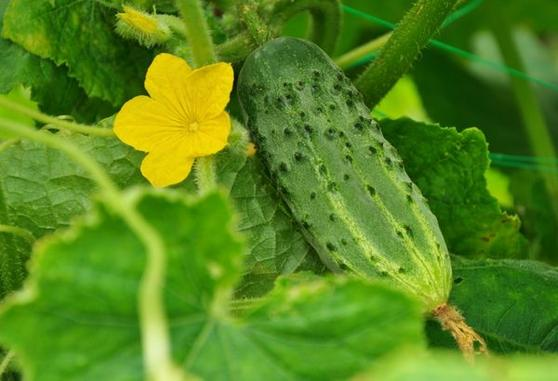cucumber: (238, 38, 460, 319)
